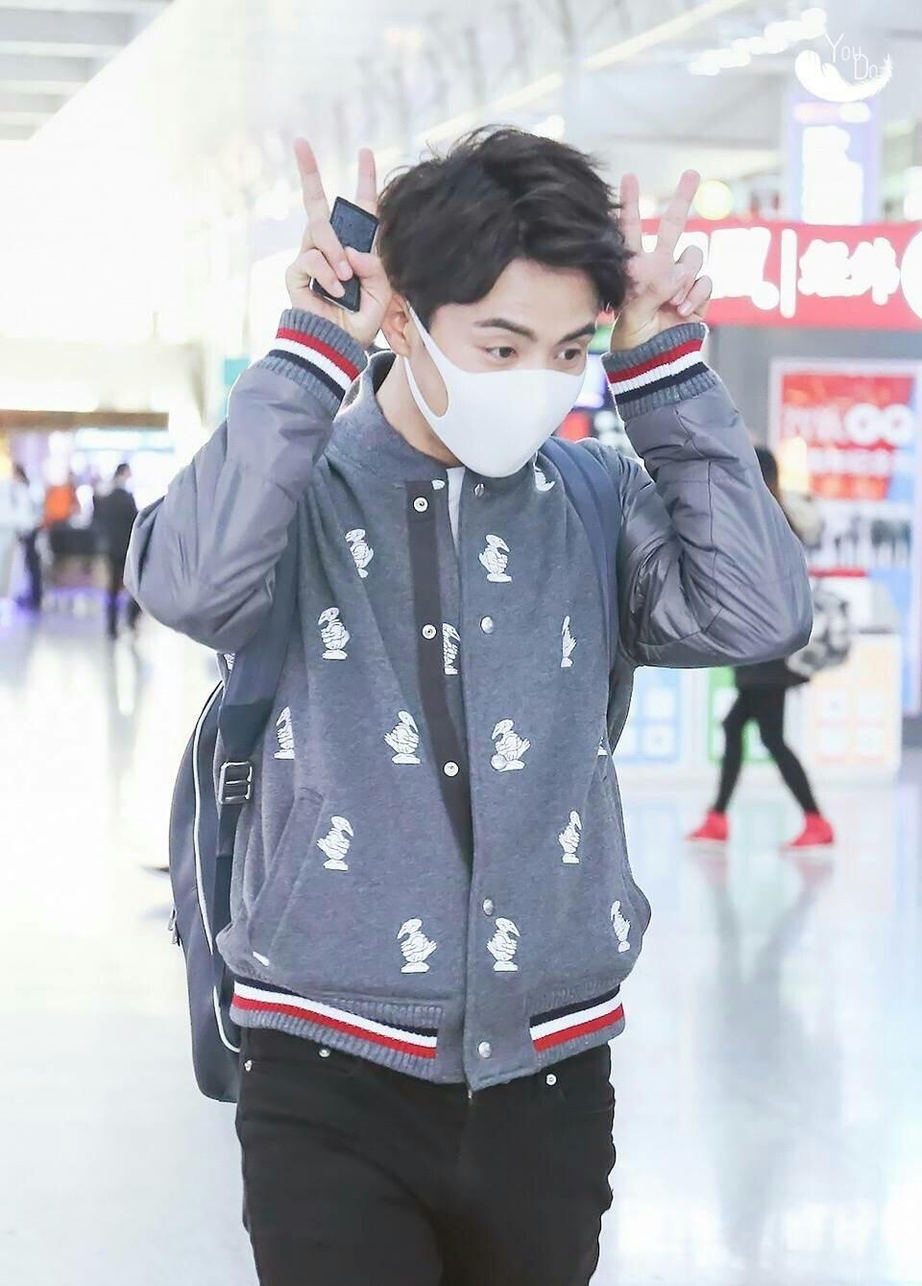OK: (424, 296, 605, 477)
